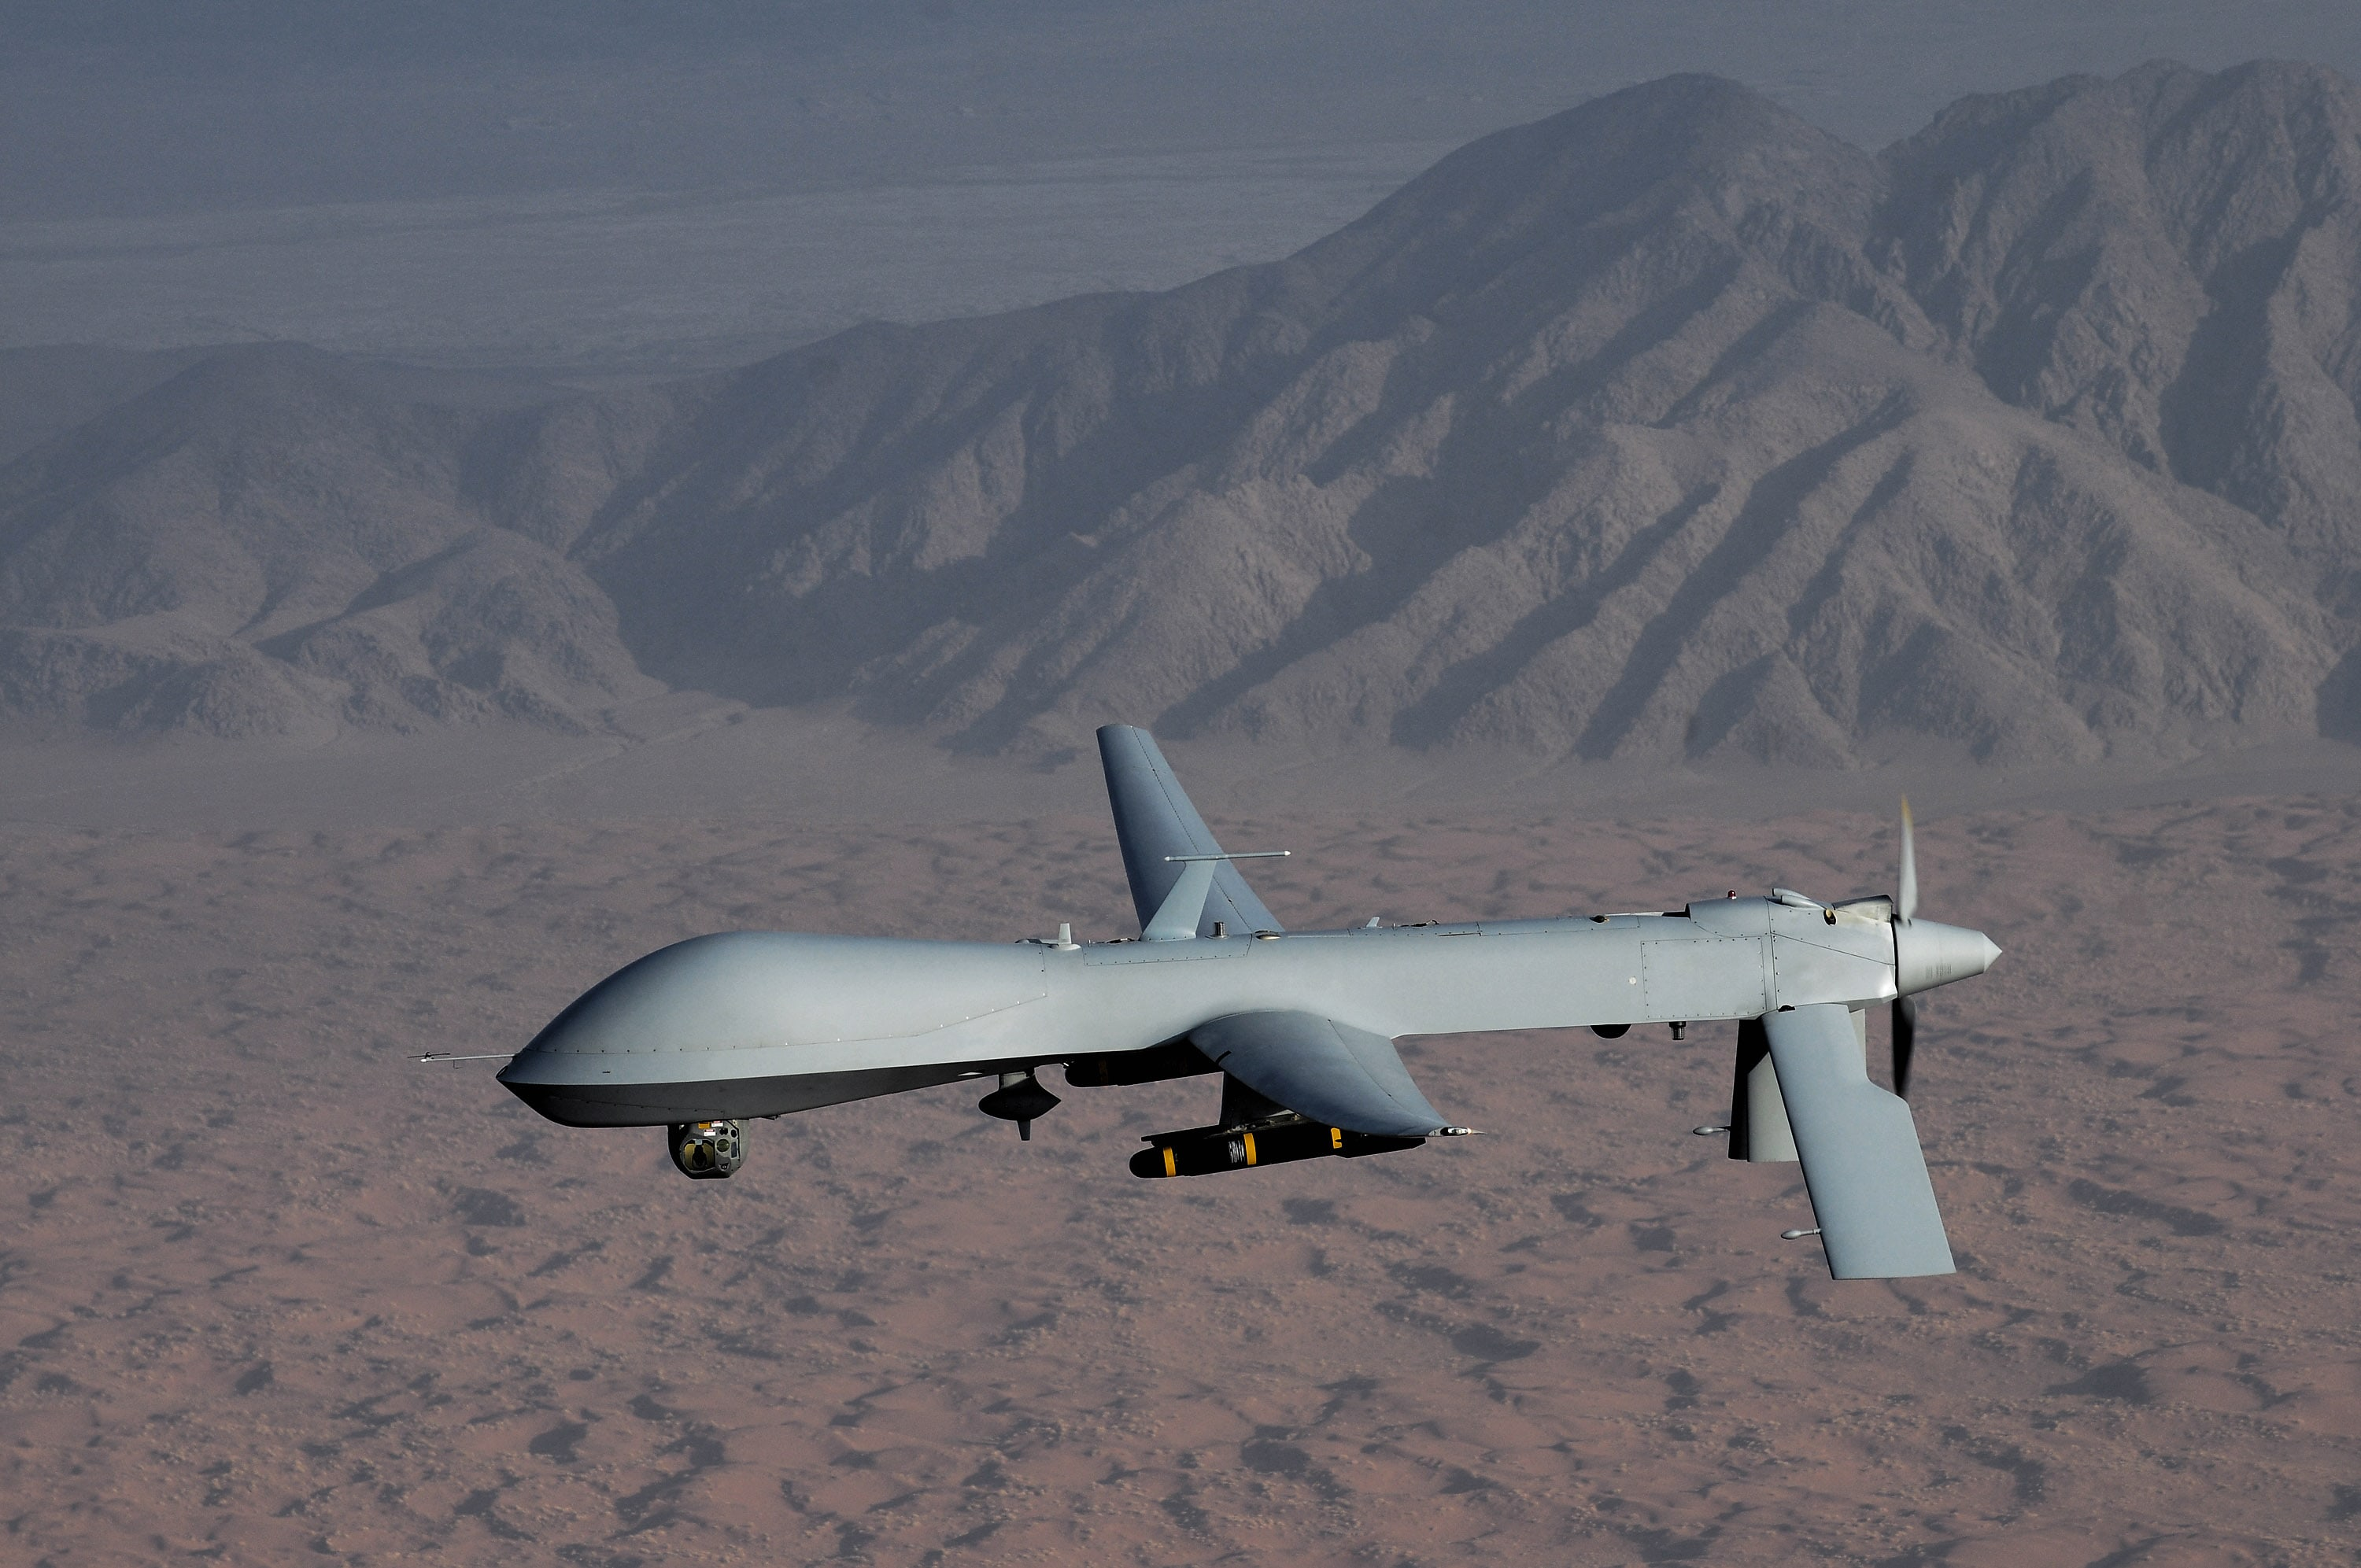drone: (411, 714, 2014, 1288)
